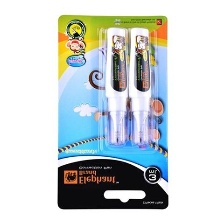book: (55, 12, 170, 212)
correction_fluid: (127, 25, 154, 146), (103, 25, 129, 146)
